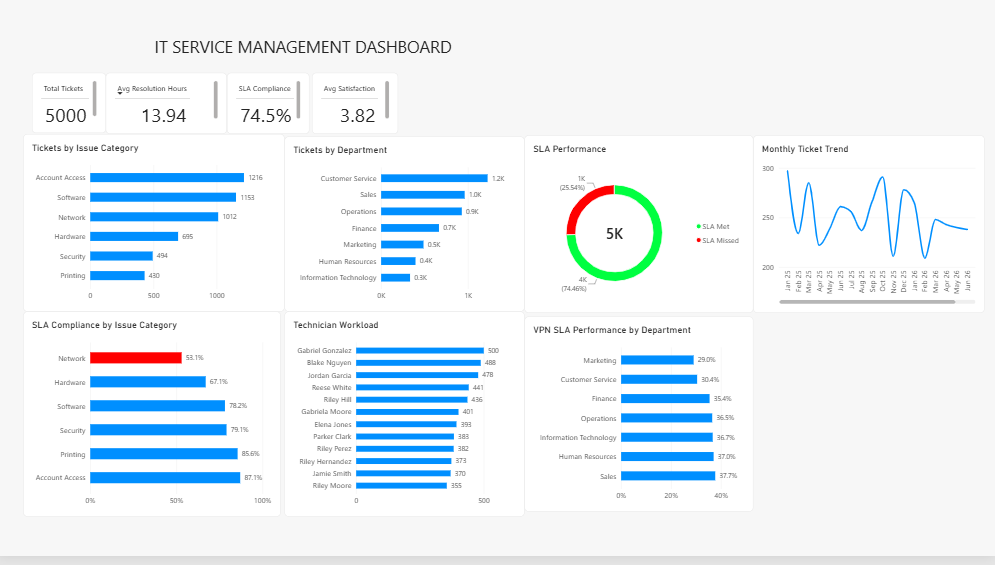

The dashboard page shown, as its layout file describes it:
{"tool":"powerbi","page":{"name":"Page 1","canvas":[1920,1080],"ordinal":0},"visuals":[{"type":"tableEx","fields":{"Values":["Support Tickets.Total Tickets"]},"box":[67.1,152.4,142.3,115.8],"z":1},{"type":"tableEx","fields":{"Values":["Support Tickets.Avg Resolution Hours"]},"box":[209.1,151.4,233.2,117.8],"z":2},{"type":"tableEx","fields":{"Values":["Support Tickets.SLA Compliance"]},"box":[442.3,151.4,158.6,117.8],"z":3},{"type":"tableEx","fields":{"Values":["Support Tickets.Avg Satisfaction"]},"box":[605.7,151.4,165.8,117.8],"z":4},{"type":"textbox","box":[641.8,79.3,651.4,74.5],"z":5},{"type":"clusteredBarChart","title":"Tickets by Department","fields":{"Category":["Departments.department_name"],"Y":["Support Tickets.Total Tickets"]},"box":[552.8,274,461.5,336.5],"z":6},{"type":"clusteredBarChart","title":"Tickets by Issue Category","fields":{"Category":["Support Tickets.issue_category"],"Y":["Support Tickets.Total Tickets"]},"box":[50.5,269.2,502.4,341.3],"z":7},{"type":"lineChart","title":"Monthly Ticket Trend","fields":{"Category":["Support Tickets.Month Label"],"Y":["Support Tickets.Total Tickets"]},"box":[1454.2,271.6,444.7,341.3],"z":8},{"type":"donutChart","title":"SLA Performance","fields":{"Category":["Support Tickets.SLA Status"],"Y":["Support Tickets.Total Tickets"]},"box":[1014.3,271.6,439.9,341.3],"z":9},{"type":"clusteredBarChart","title":"SLA Compliance by Issue Category","fields":{"Category":["Support Tickets.issue_category"],"Y":["Support Tickets.SLA Compliance"]},"box":[50.5,610.5,495.1,394.2],"z":10},{"type":"clusteredBarChart","title":"Technician Workload","fields":{"Category":["Technicians.Technician Name"],"Y":["Support Tickets.Total Tickets"]},"box":[552.8,610.5,461.5,394.2],"z":11},{"type":"clusteredBarChart","title":"VPN SLA Performance by Department","fields":{"Category":["Departments.department_name"],"Y":["Support Tickets.VPN SLA Compliance"]},"box":[1014.3,620.1,439.9,375],"z":12}]}

Visuals, with their boxes in screenshot pixels (x1, y1, x2, y2), scaled from the page's 1920x1080 canvas onto the 995x565 screenshot:
tableEx - Support Tickets.Total Tickets: box=[35, 80, 109, 140]
tableEx - Support Tickets.Avg Resolution Hours: box=[108, 79, 229, 141]
tableEx - Support Tickets.SLA Compliance: box=[229, 79, 311, 141]
tableEx - Support Tickets.Avg Satisfaction: box=[314, 79, 400, 141]
textbox: box=[333, 41, 670, 80]
"Tickets by Department" clusteredBarChart: box=[286, 143, 526, 319]
"Tickets by Issue Category" clusteredBarChart: box=[26, 141, 287, 319]
"Monthly Ticket Trend" lineChart: box=[754, 142, 984, 321]
"SLA Performance" donutChart: box=[526, 142, 754, 321]
"SLA Compliance by Issue Category" clusteredBarChart: box=[26, 319, 283, 526]
"Technician Workload" clusteredBarChart: box=[286, 319, 526, 526]
"VPN SLA Performance by Department" clusteredBarChart: box=[526, 324, 754, 521]
